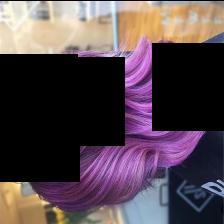purple: (1, 31, 224, 210)
